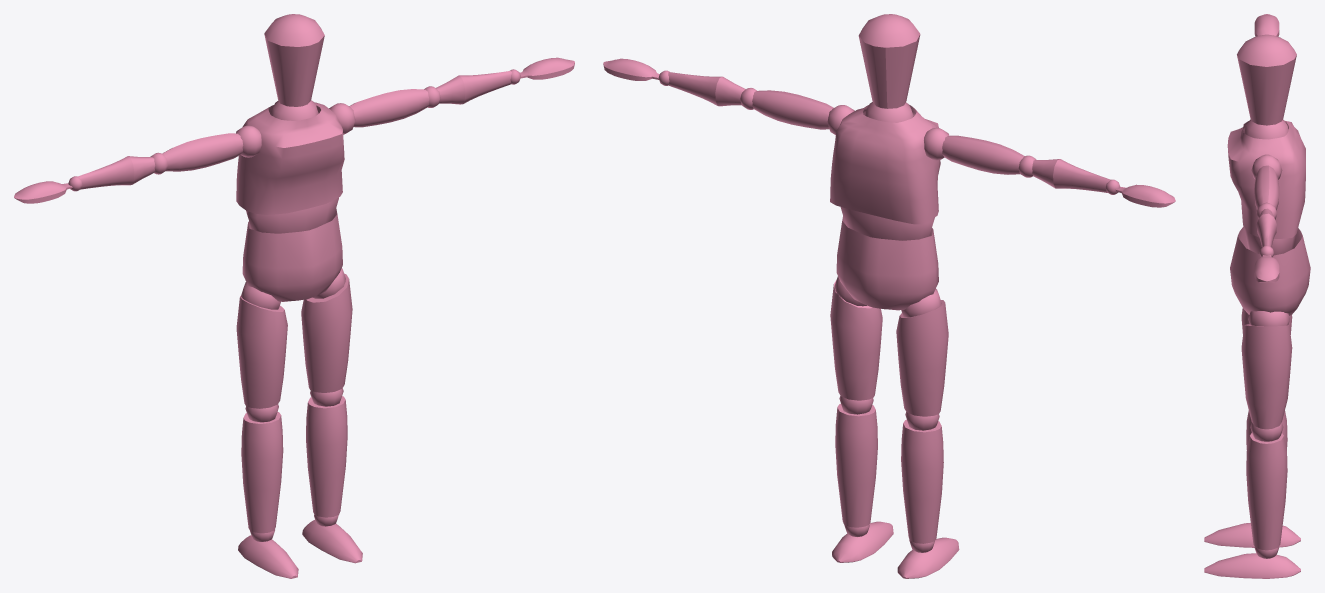
Rendered from Personaje.fbx.
3 renders of one model, left to right at view 1: azimuth 30°, elevation 25°; view 2: azimuth 150°, elevation 25°; view 3: azimuth 270°, elevation 25°, orthographic. The views are drawn at different scales.
Visible parts, largest first — view 1: Pecho.001, Cadera.001, PiernaDerSup.001, PiernaSupIzq, PiernaDerInf.001, PiernaInfIzq, Cabeza.002, BrazoSupDer, BrazoSupIzq, Cintura.001, BrazoInfDer, BrazoInfIzq (+4 smaller); view 2: Pecho.001, Cadera.001, PiernaDerSup.001, PiernaSupIzq, PiernaInfIzq, PiernaDerInf.001, Cabeza.002, BrazoSupDer, BrazoSupIzq, Cintura.001, BrazoInfDer, BrazoInfIzq (+4 smaller); view 3: Pecho.001, PiernaSupIzq, Cadera.001, Cabeza.002, PiernaInfIzq, PieIzq.001, PieDer.001, BrazoSupIzq, Cuello.001, ManoIzq, BrazoInfIzq, SoasIzq (+8 smaller).
Boxes of the visible parts, x1,y1,x2,y2 form: Pecho.001: (236, 102, 344, 214); Cadera.001: (242, 208, 342, 301); PiernaDerSup.001: (236, 296, 287, 408); PiernaSupIzq: (301, 273, 352, 392); PiernaDerInf.001: (241, 412, 283, 533); PiernaInfIzq: (306, 396, 347, 517); Cabeza.002: (264, 14, 324, 106); BrazoSupDer: (162, 133, 243, 171); BrazoSupIzq: (349, 89, 429, 127); Cintura.001: (246, 197, 338, 233); BrazoInfDer: (78, 156, 155, 189); BrazoInfIzq: (436, 71, 511, 104); Pecho.001: (830, 105, 940, 224); Cadera.001: (836, 216, 938, 310); PiernaDerSup.001: (896, 300, 948, 416); PiernaSupIzq: (830, 280, 882, 400); PiernaInfIzq: (835, 403, 877, 527); PiernaDerInf.001: (901, 419, 943, 543); Cabeza.002: (858, 14, 920, 108); BrazoSupDer: (942, 135, 1024, 174); BrazoSupIzq: (752, 90, 833, 129); Cintura.001: (840, 207, 934, 240); BrazoInfDer: (1032, 159, 1110, 192); BrazoInfIzq: (668, 72, 745, 106); Pecho.001: (1227, 121, 1305, 238); PiernaSupIzq: (1241, 324, 1292, 429); Cadera.001: (1230, 226, 1310, 315); Cabeza.002: (1237, 34, 1296, 125); PiernaInfIzq: (1246, 433, 1287, 550); PieIzq.001: (1204, 553, 1300, 578); PieDer.001: (1204, 523, 1300, 547); BrazoSupIzq: (1254, 165, 1279, 210); Cuello.001: (1244, 119, 1288, 139); ManoIzq: (1254, 255, 1279, 282); BrazoInfIzq: (1256, 208, 1276, 247); SoasIzq: (1248, 311, 1289, 326).
Size of the model in its own units: 4846 by 4381 by 816.
